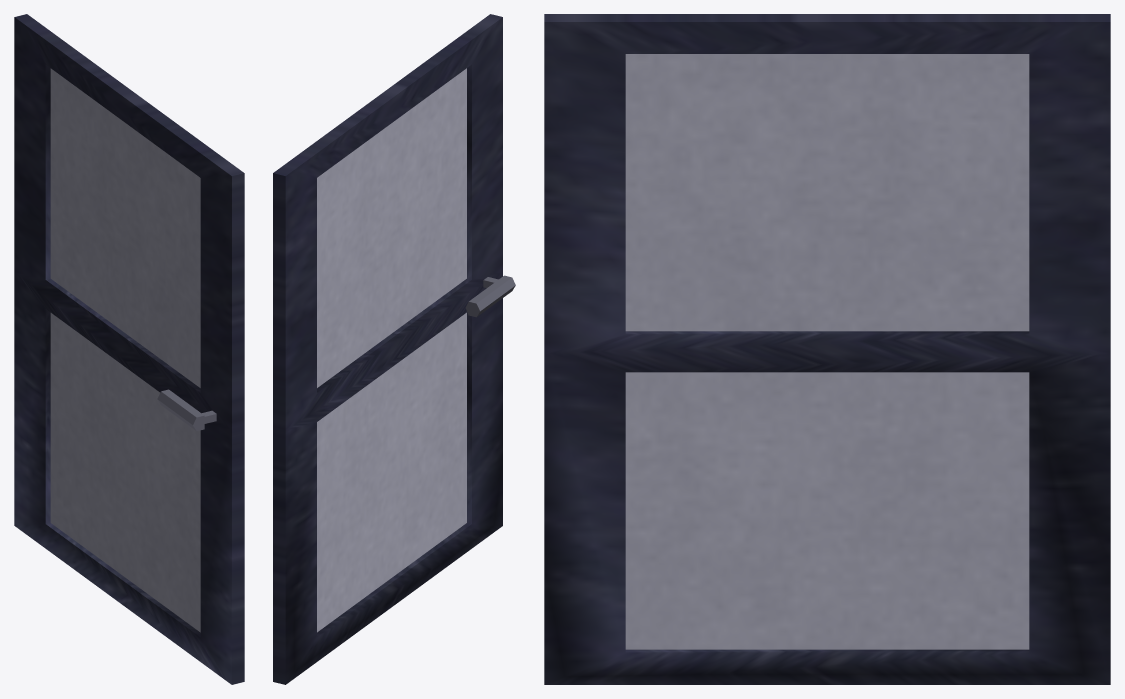
Rendered from Main Door.fbx.
The picture shows the model from 3 angles, left to right: view 1: azimuth 30°, elevation 25°; view 2: azimuth 150°, elevation 25°; view 3: azimuth 270°, elevation 25°; orthographic projection. The views are drawn at different scales.
Visible parts, largest first — view 1: Main Door; view 2: Main Door; view 3: Main Door.
Part boxes in pixels (left/top/right/bottom): Main Door: left=14, top=14, right=244, bottom=684; Main Door: left=273, top=14, right=515, bottom=684; Main Door: left=544, top=14, right=1110, bottom=684.
Size of the model in its own units: 17.72 by 224 by 173.
